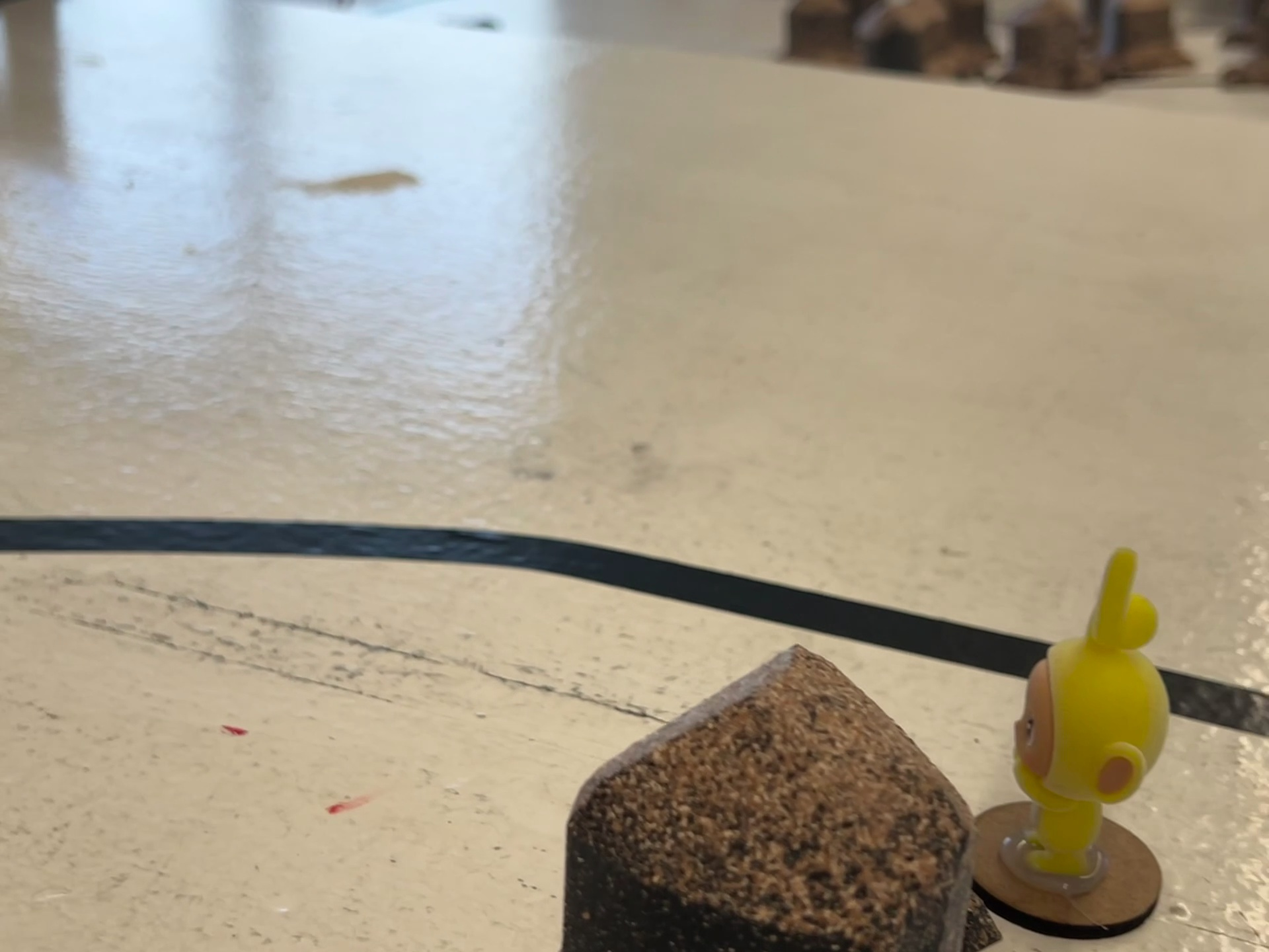teletubby: (1015, 549, 1170, 876)
